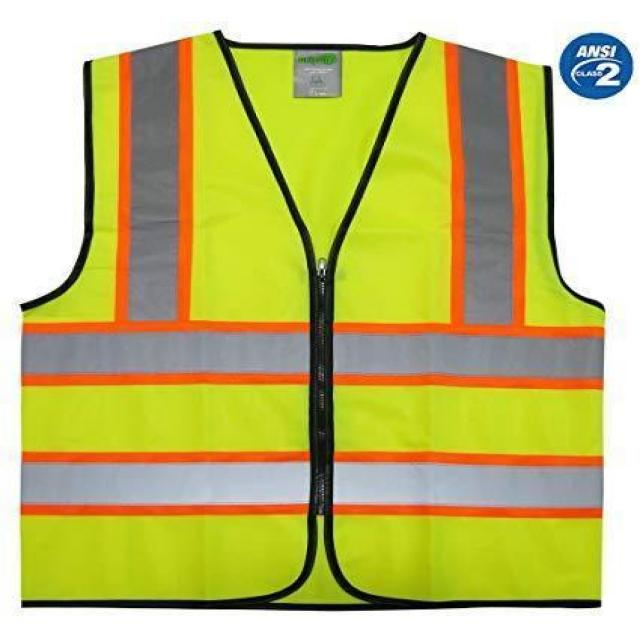vest: (14, 31, 608, 614)
